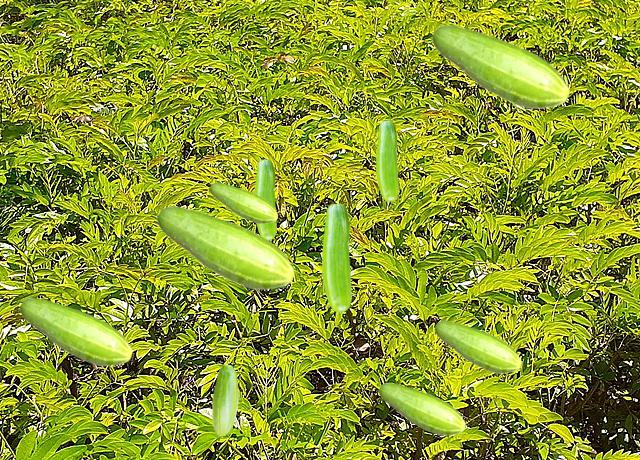cucumber: (431, 24, 569, 109), (156, 205, 294, 290), (19, 297, 132, 366), (378, 382, 465, 435), (434, 320, 521, 373), (322, 203, 350, 311), (209, 182, 277, 223), (212, 364, 237, 435), (376, 120, 397, 200), (254, 159, 275, 239)
